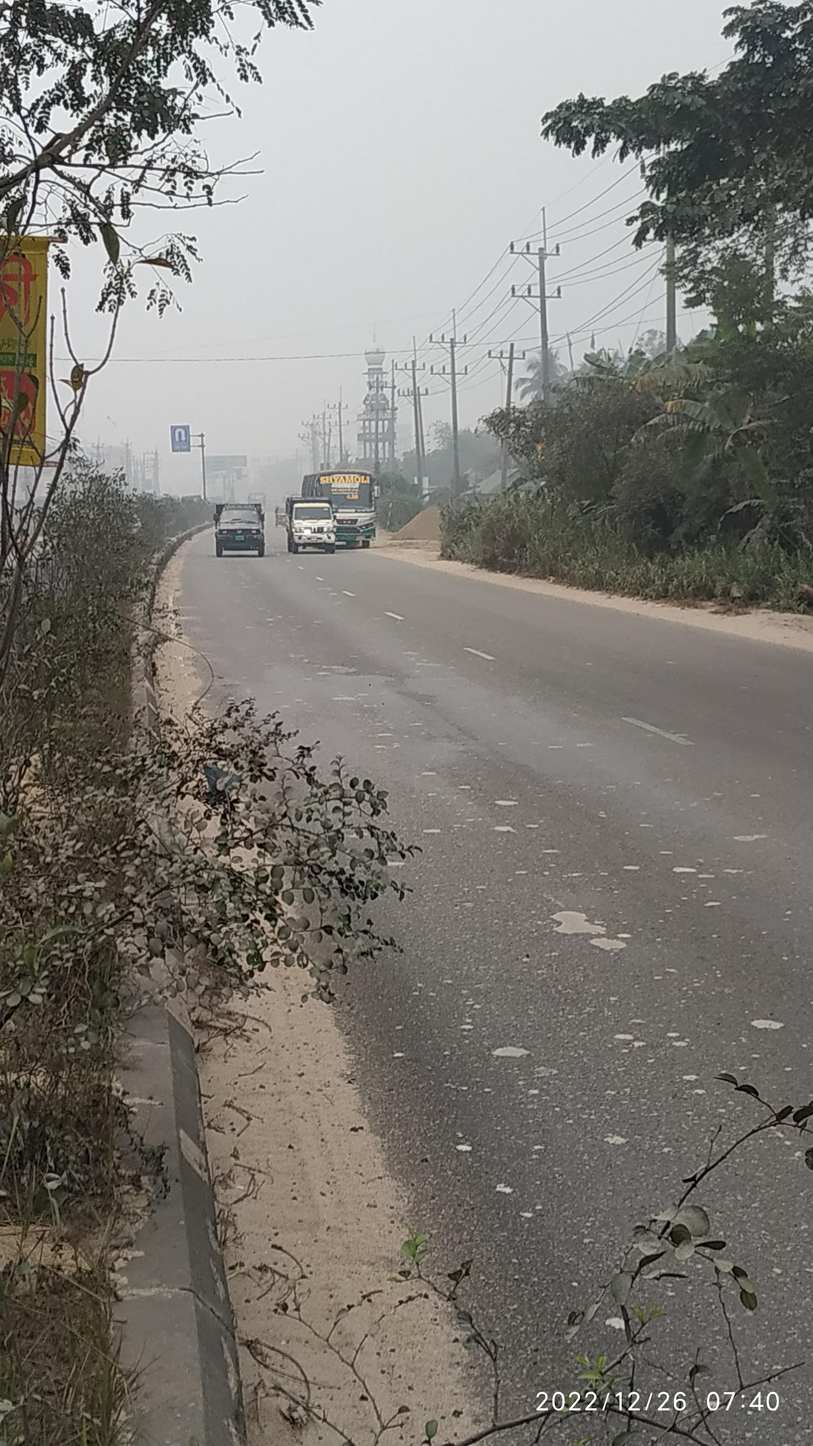Bus: (302, 459, 393, 557)
Truck: (193, 494, 278, 574), (278, 491, 345, 562)
